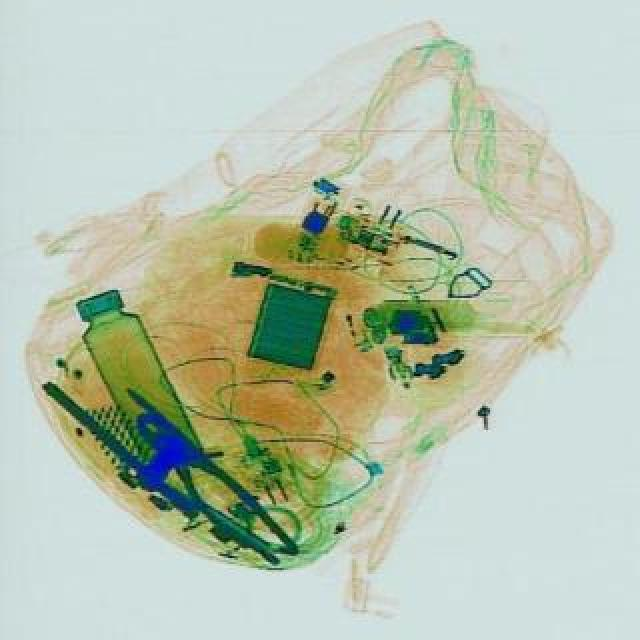wrench: (122, 398, 302, 578)
